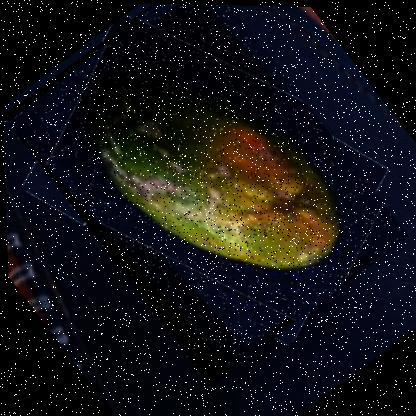orange_rotten: (0, 0, 411, 391)
